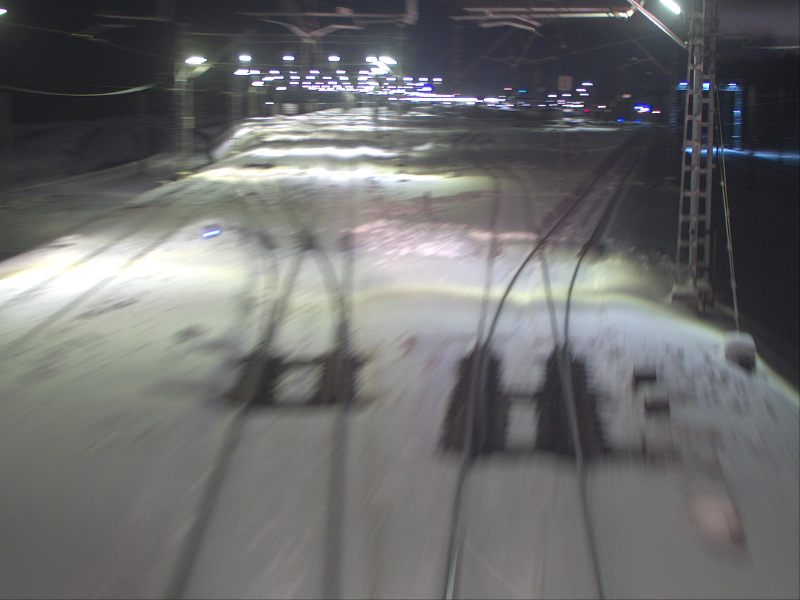railway_arrows: (473, 240, 579, 458)
